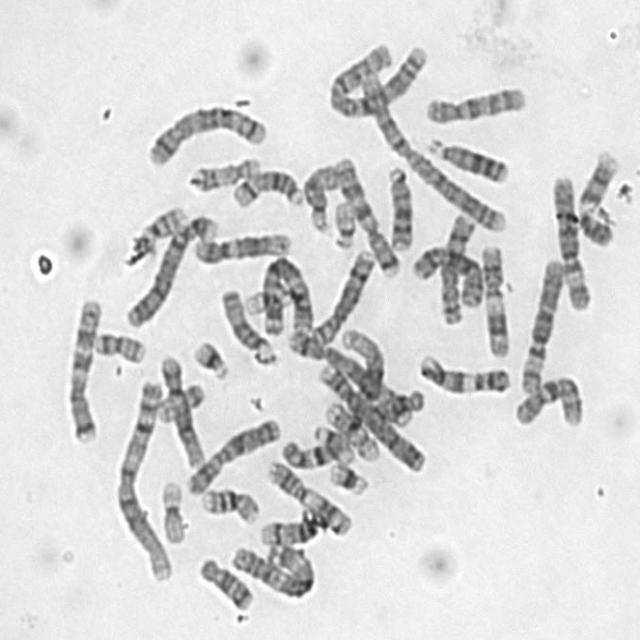A1: (280, 332, 393, 476), (109, 374, 177, 583)
A2: (350, 57, 510, 234), (324, 35, 431, 119)
A3: (225, 534, 318, 601), (254, 248, 316, 340)
B4: (314, 359, 429, 474), (120, 206, 221, 330)
B5: (281, 322, 416, 428), (141, 97, 270, 168)
C10: (419, 78, 528, 125), (508, 368, 586, 430)
C11: (261, 452, 354, 538), (475, 236, 513, 358)
C12: (154, 348, 206, 469), (188, 225, 292, 266)
C6: (514, 250, 566, 394), (546, 168, 594, 312)
C7: (328, 149, 404, 279), (61, 291, 103, 445)
C8: (305, 242, 377, 349), (434, 206, 478, 326)
C9: (572, 143, 622, 247), (412, 346, 514, 396)
D13: (422, 131, 512, 186), (381, 159, 416, 253)
D14: (227, 162, 306, 210), (254, 502, 327, 548)
D15: (214, 282, 280, 366), (298, 157, 343, 236)
E16: (128, 200, 188, 254), (195, 479, 261, 526)
E17: (320, 398, 382, 462), (182, 149, 264, 193)
E18: (192, 550, 255, 612), (366, 383, 428, 425)
F19: (154, 472, 188, 545), (241, 277, 302, 315)
F20: (150, 376, 207, 424), (88, 325, 147, 364)
G21: (187, 334, 232, 381), (323, 456, 371, 497)
G22: (308, 423, 357, 469), (327, 193, 358, 252)
X: (180, 410, 283, 497), (404, 238, 486, 308)
